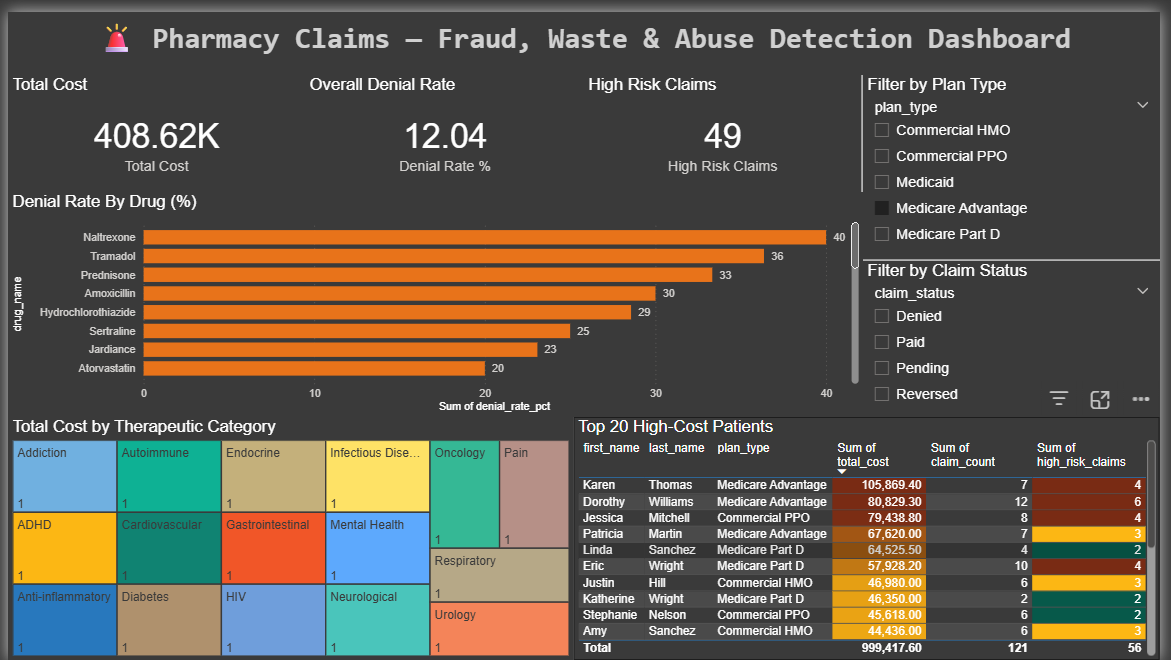

The dashboard page shown, as its layout file describes it:
{"tool":"powerbi","page":{"name":"FWA Detection","canvas":[1280,720],"ordinal":0},"visuals":[{"type":"clusteredBarChart","title":"Denial Rate By Drug (%)","fields":{"Category":["report_denial_analysis.drug_name"],"Y":["Sum(report_denial_analysis.denial_rate_pct)"]},"box":[0,200,950,250],"z":0},{"type":"card","title":"Total Cost","fields":{"Values":["cost_by_plan_category.Total Cost"]},"box":[0,70.3,329.7,129.7],"z":1000},{"type":"slicer","title":"Filter by Plan Type","fields":{"Values":["patients.plan_type"]},"box":[950,70.3,329.7,204.7],"z":5000},{"type":"textbox","box":[0,0,1280,70],"z":7000},{"type":"card","title":"Overall Denial Rate","fields":{"Values":["pharmacy_claims.Denial Rate %"]},"box":[329.7,70.3,310.9,129.7],"z":8000},{"type":"card","title":"High Risk Claims","fields":{"Values":["cost_by_plan_category.High Risk Claims"]},"box":[640.6,70.3,307.8,129.7],"z":9000},{"type":"slicer","title":"Filter by Claim Status","fields":{"Values":["pharmacy_claims.claim_status"]},"box":[950,276.6,329.7,173.4],"z":10000},{"type":"treemap","title":"Total Cost by Therapeutic Category","fields":{"Group":["report_cost_by_category.therapeutic_category"],"Values":["CountNonNull(report_cost_by_category.total_cost)"]},"box":[0,450,628.1,270.3],"z":10001},{"type":"tableEx","title":"Top 20 High-Cost Patients","fields":{"Values":["report_top20_patients.first_name","report_top20_patients.last_name","report_top20_patients.plan_type","Sum(report_top20_patients.total_cost)","Sum(report_top20_patients.claim_count)","Sum(report_top20_patients.high_risk_claims)"]},"box":[628.1,450,651.6,270.3],"z":10002}]}

Visuals, with their boxes in screenshot pixels (x1, y1, x2, y2), scaled from the page's 1280x720 canvas onto the 1171x660 screenshot:
"Denial Rate By Drug (%)" clusteredBarChart: [left=0, top=183, right=869, bottom=412]
"Total Cost" card: [left=0, top=64, right=302, bottom=183]
"Filter by Plan Type" slicer: [left=869, top=64, right=1170, bottom=252]
textbox: [left=0, top=0, right=1170, bottom=64]
"Overall Denial Rate" card: [left=302, top=64, right=586, bottom=183]
"High Risk Claims" card: [left=586, top=64, right=868, bottom=183]
"Filter by Claim Status" slicer: [left=869, top=254, right=1170, bottom=412]
"Total Cost by Therapeutic Category" treemap: [left=0, top=412, right=575, bottom=659]
"Top 20 High-Cost Patients" tableEx: [left=575, top=412, right=1170, bottom=659]
